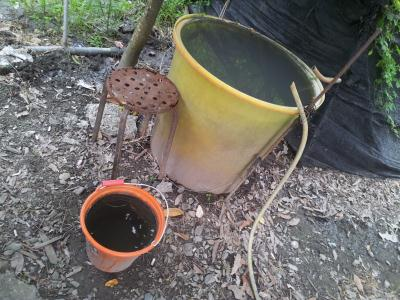bucket: (141, 12, 327, 198), (76, 174, 171, 276)
